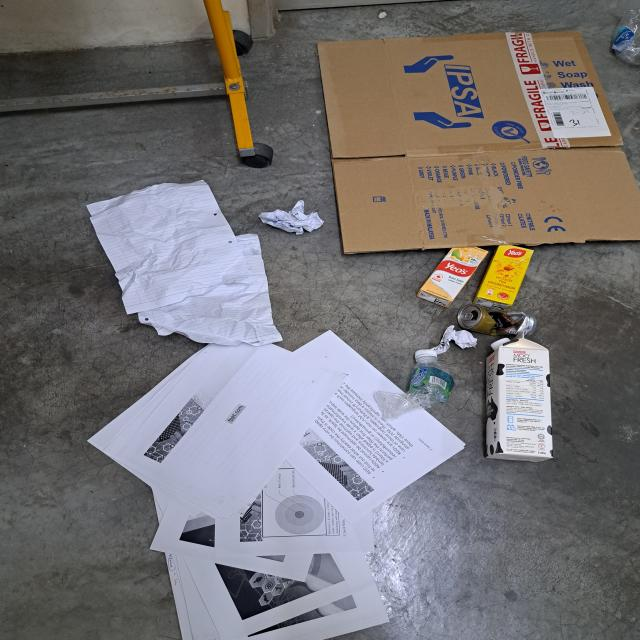can: (459, 304, 537, 338)
cardboard: (316, 30, 640, 254)
drink carton: (486, 336, 554, 462), (417, 246, 488, 307), (478, 245, 534, 307)
paper: (88, 330, 467, 640), (87, 180, 284, 347), (258, 199, 325, 236), (432, 325, 479, 354)
plastic bottle: (374, 348, 455, 418), (612, 8, 640, 65)
plastic bottle cap: (414, 347, 438, 359), (489, 338, 511, 349)
pop tab: (458, 311, 473, 322)
